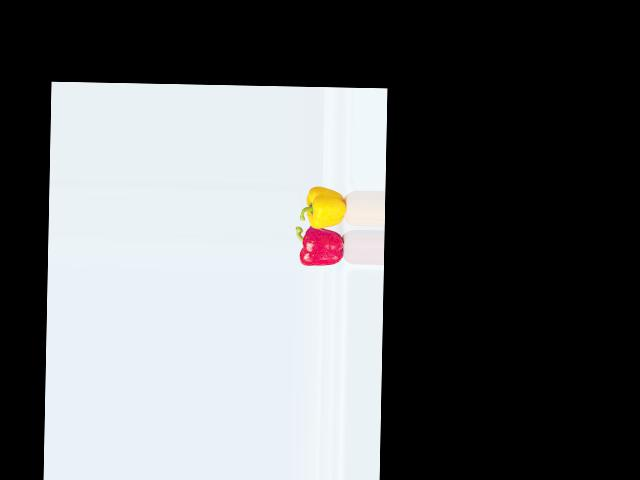bell_pepper: (296, 225, 349, 270)
